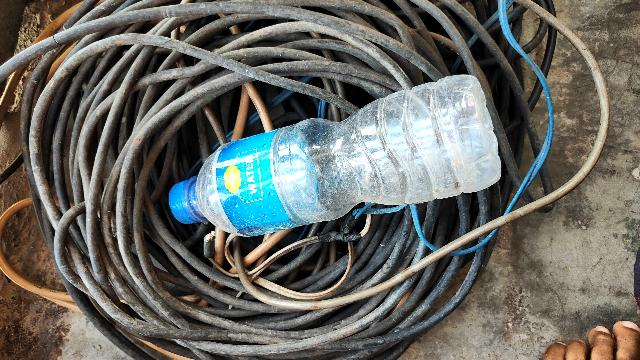bottle: (164, 62, 513, 253)
